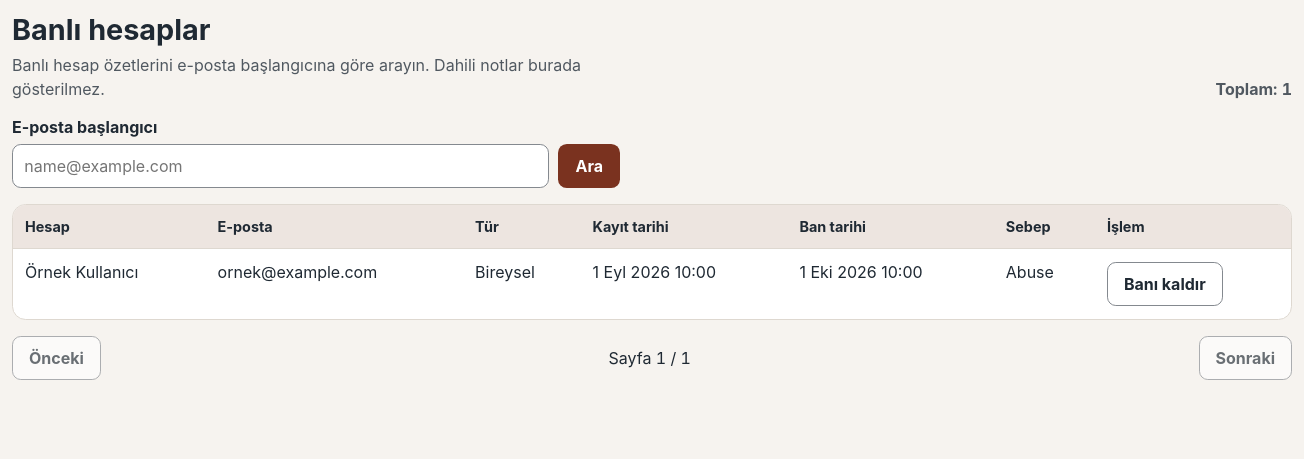
Test case: Admin banned accounts › confirms unban, obtains CSRF, submits and refreshes the list
The image size is (1304, 459).
Click the button with aria-label "ornek@example.com hesabının banını kaldır".
click(1165, 284)  # box [1107,262,1223,306]
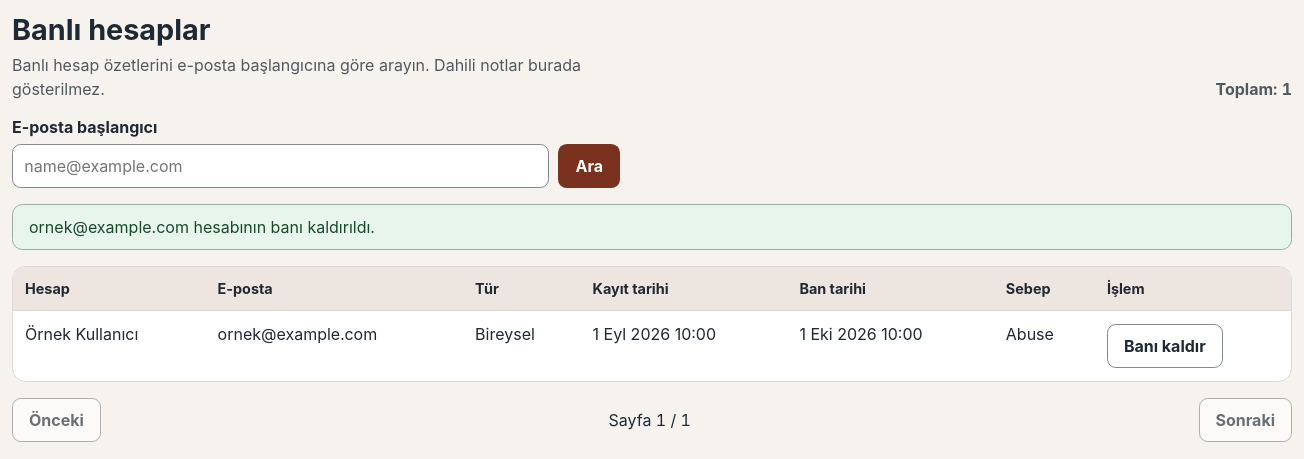
Check: the text "ornek@example.com hesabının banı kaldırıldı." is shown, box [12,204,1292,250]
